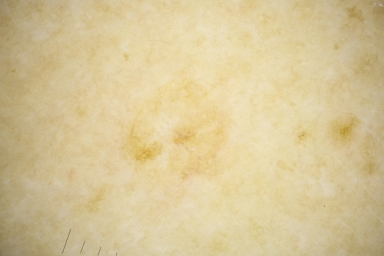nevus: (124, 80, 230, 180)
